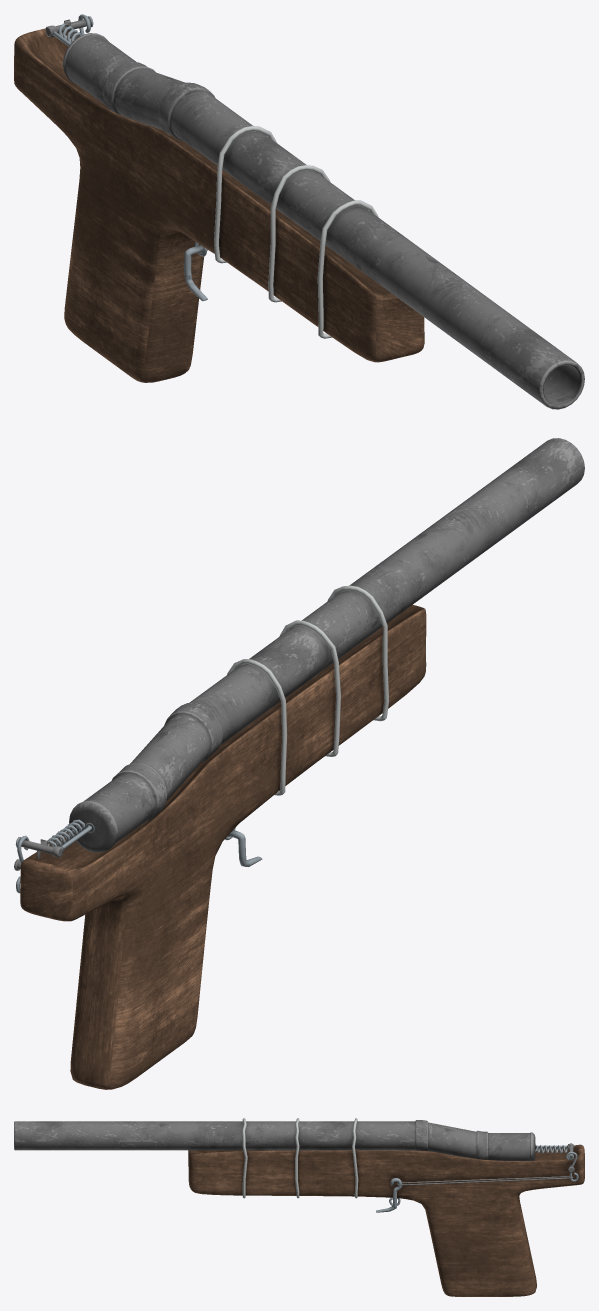
The model's file is potatogun.fbx.
3 renders of one model, top to bottom at view 1: azimuth 30°, elevation 25°; view 2: azimuth 150°, elevation 25°; view 3: azimuth 270°, elevation 25°, orthographic. The views are drawn at different scales.
Visible parts, largest first — view 1: Default; view 2: Default; view 3: Default.
Boxes of the visible parts, <box> form: Default: <box>14,14,584,409</box>; Default: <box>14,438,584,1089</box>; Default: <box>14,1118,584,1296</box>.
Size of the model in its own units: 16.48 by 66.86 by 201.
